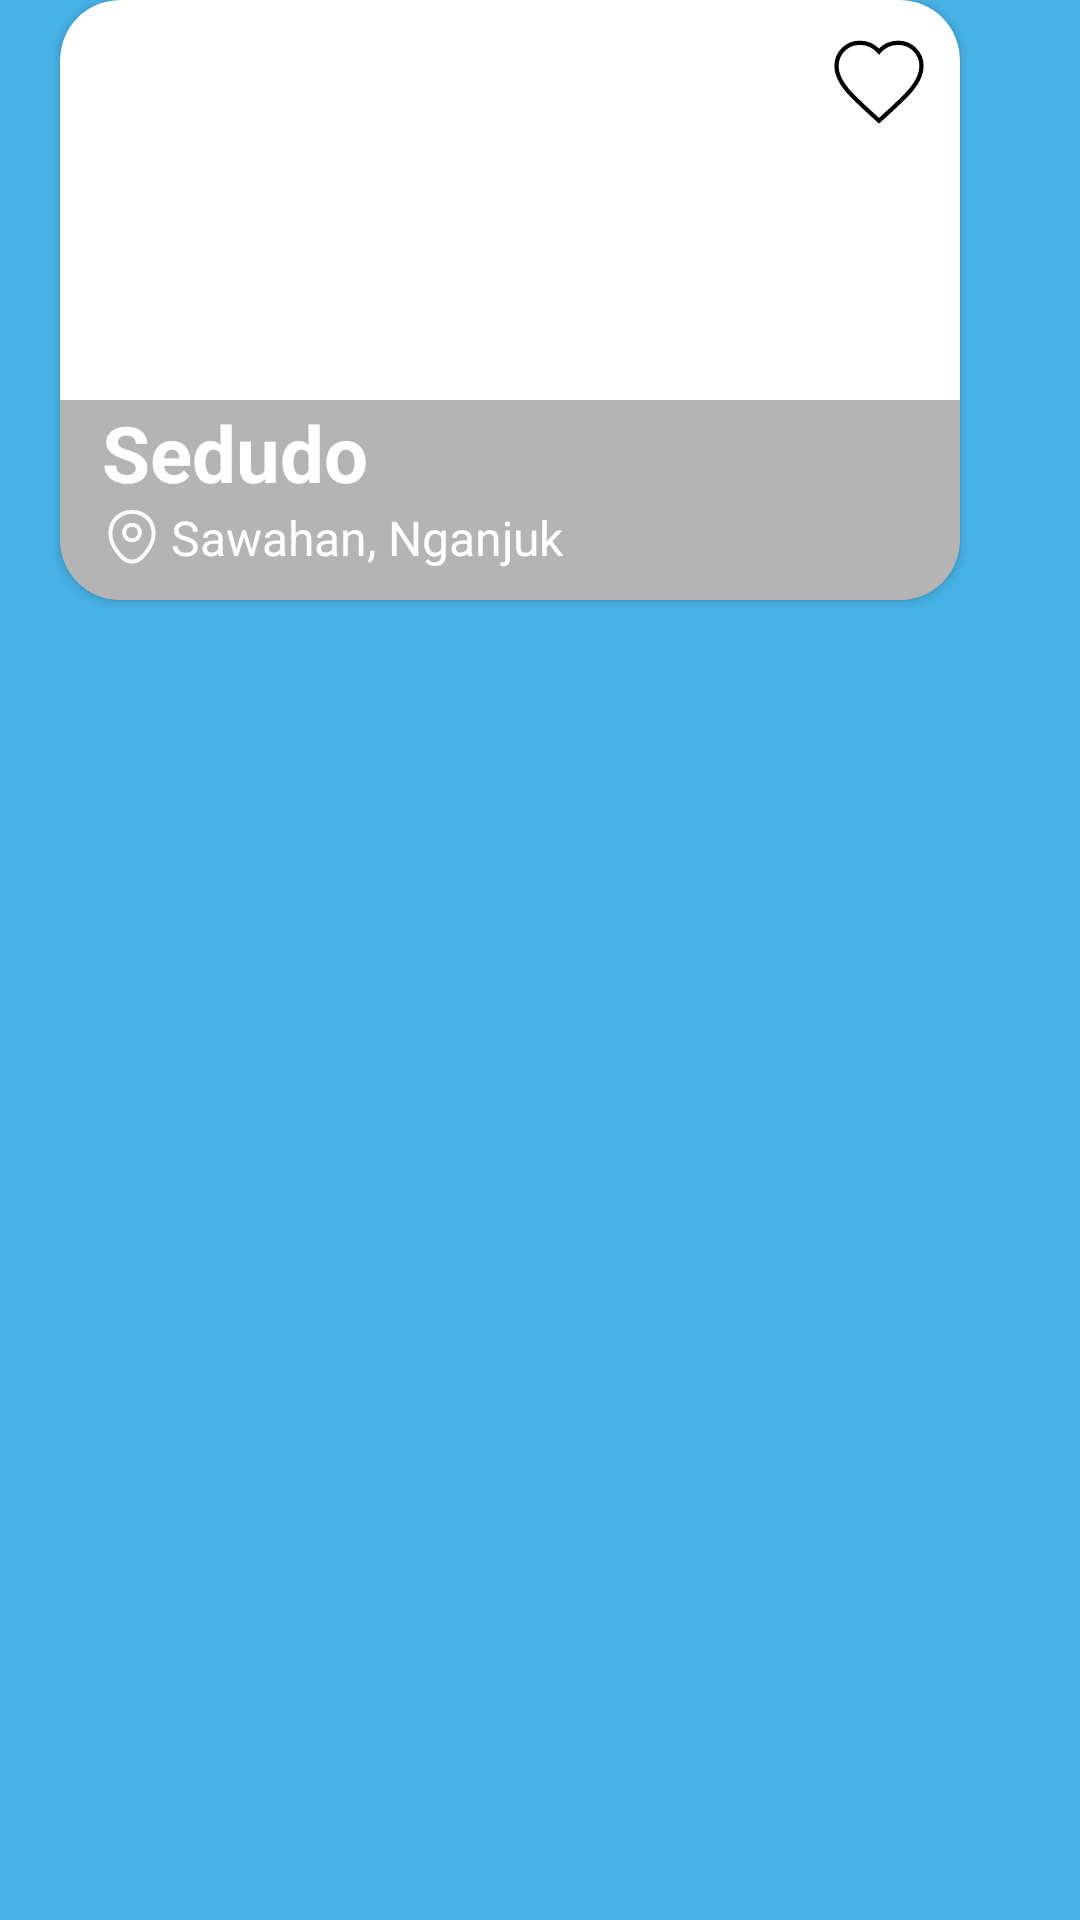

Screen size 1080px x 1920px. Icon name, then its box in pixels as (x1, y1, x2, y2):
locationnew: (108, 510, 156, 564)
